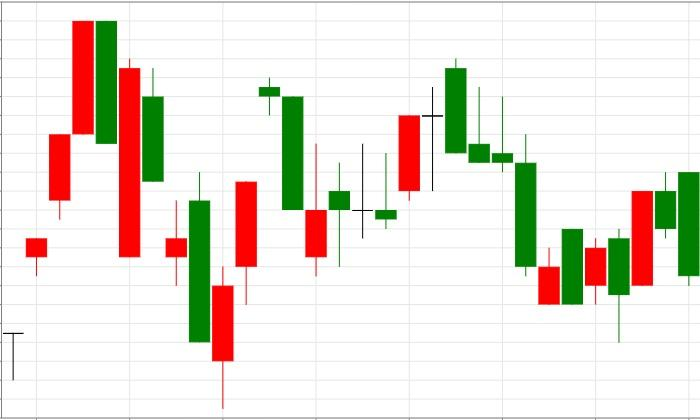bearish_engulfing_fall: (3, 21, 117, 381)
